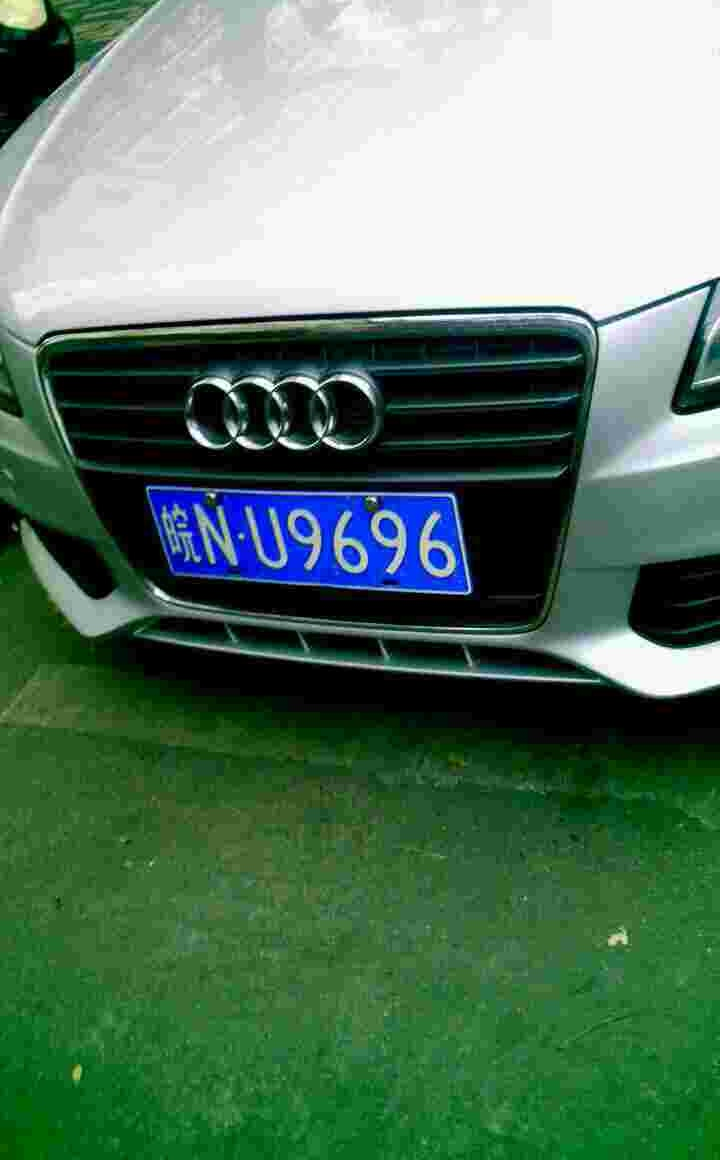license_plate: (153, 491, 464, 597)
